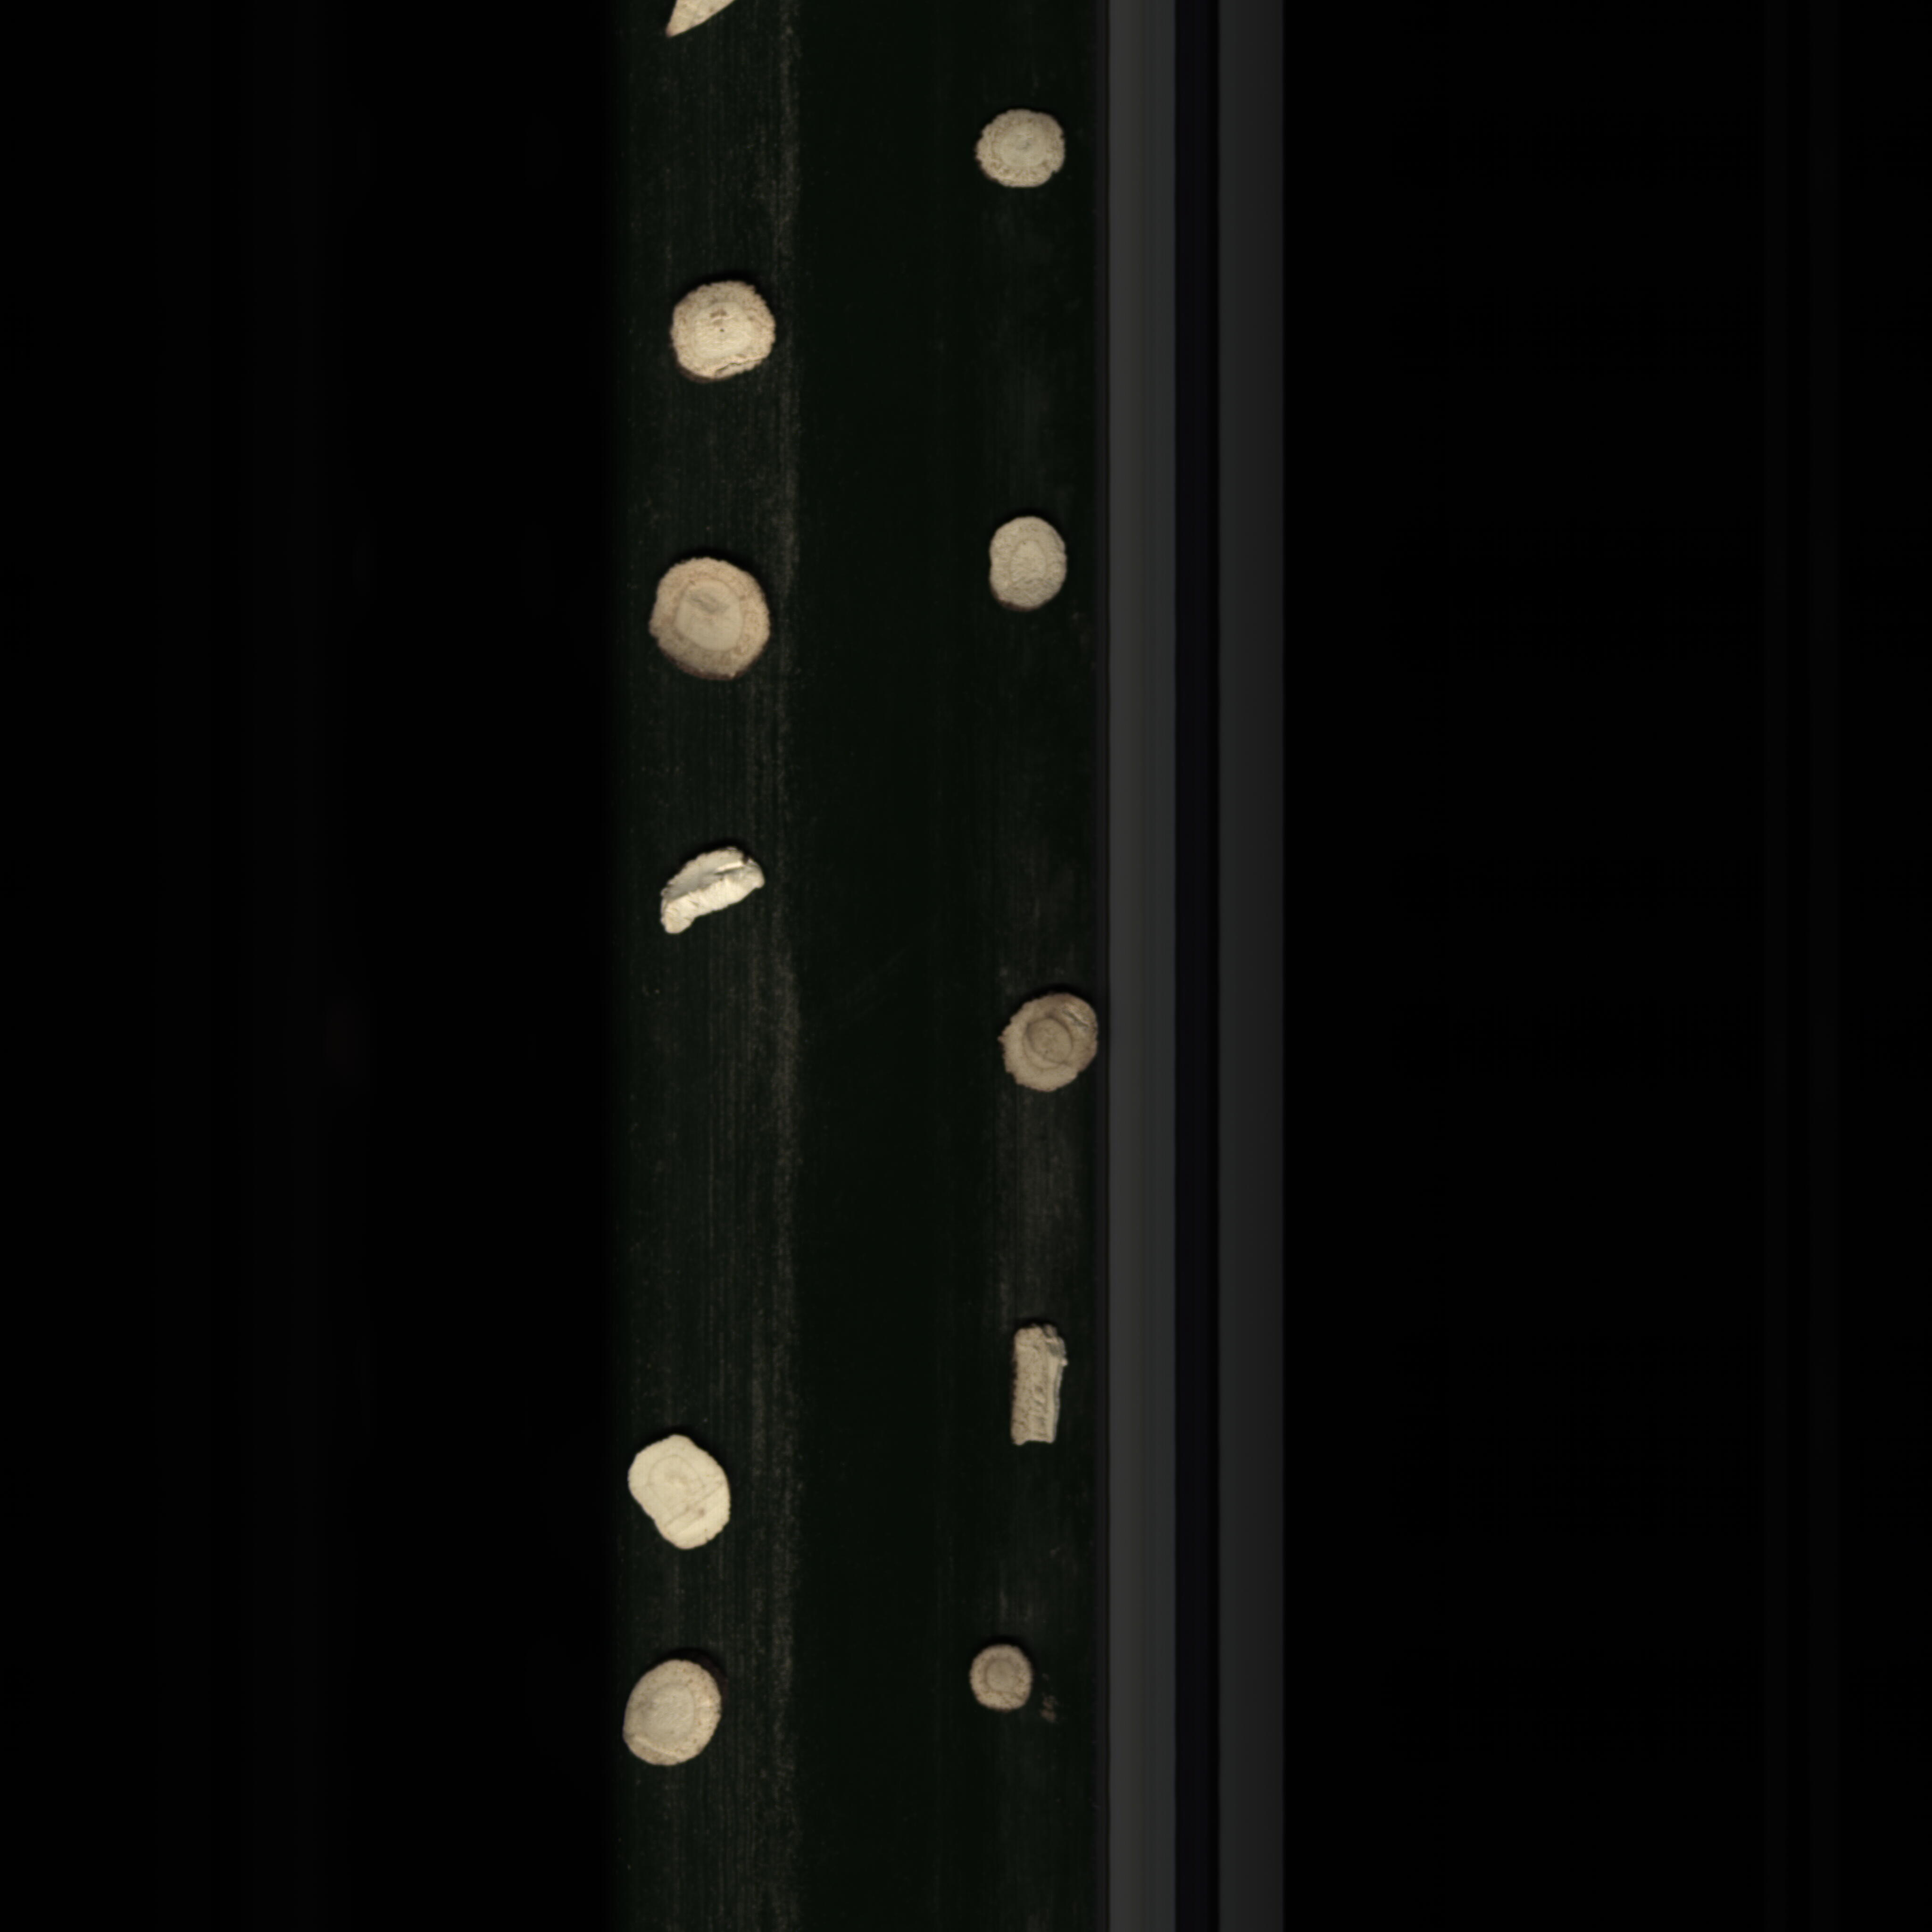debris: (987, 1307, 1083, 1483), (648, 833, 778, 947)
